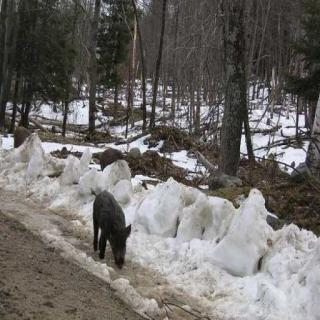Pig: (76, 168, 132, 278)
